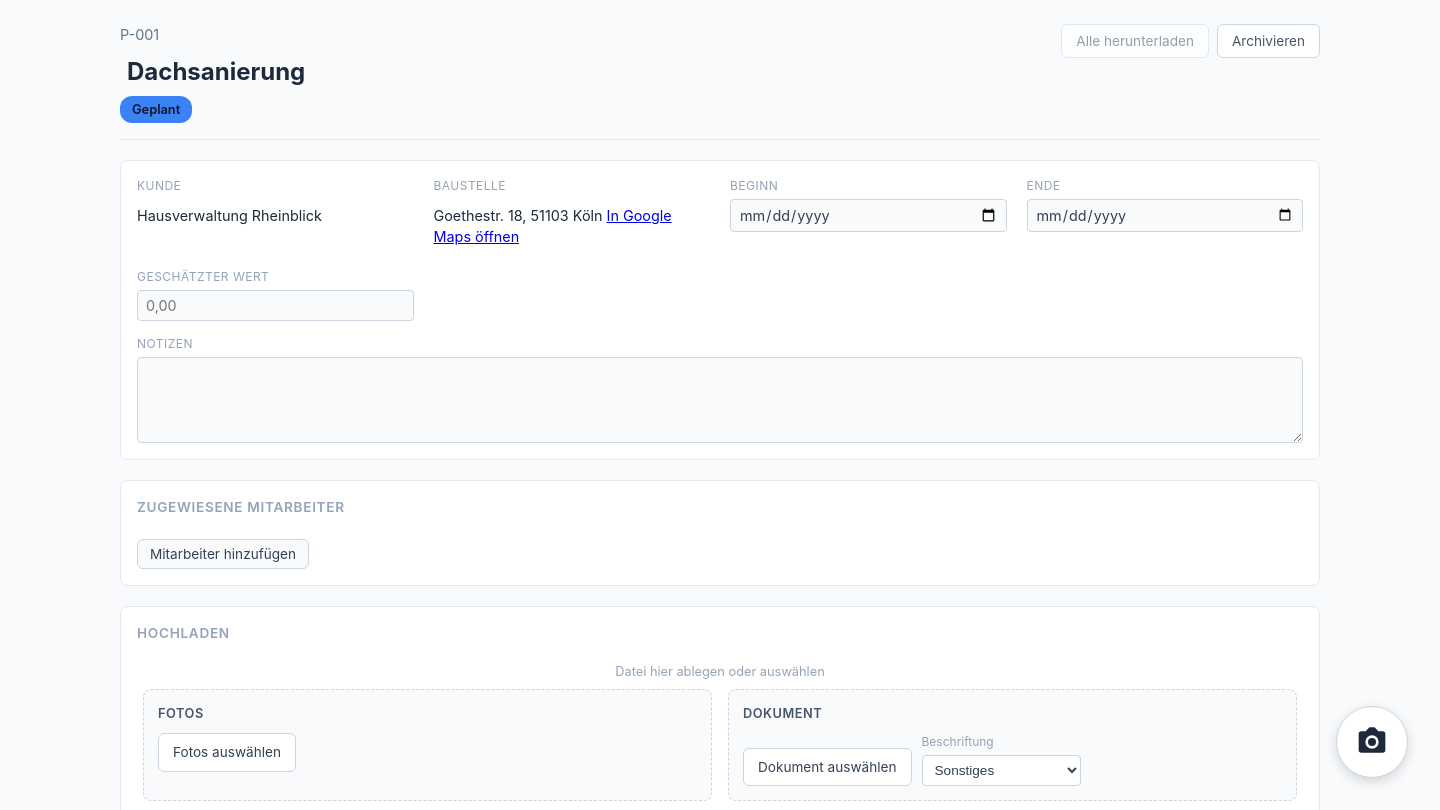
Scenario: ProjectDetailPage — Baustelle group (AC-280, edit branch) › initial toggle state on Edit is OFF + populated when project.siteAddress is non-null
The image size is (1440, 810).
Click the button with test id "project-detail-site-address-edit" at (553,212), box [434,178,672,245]
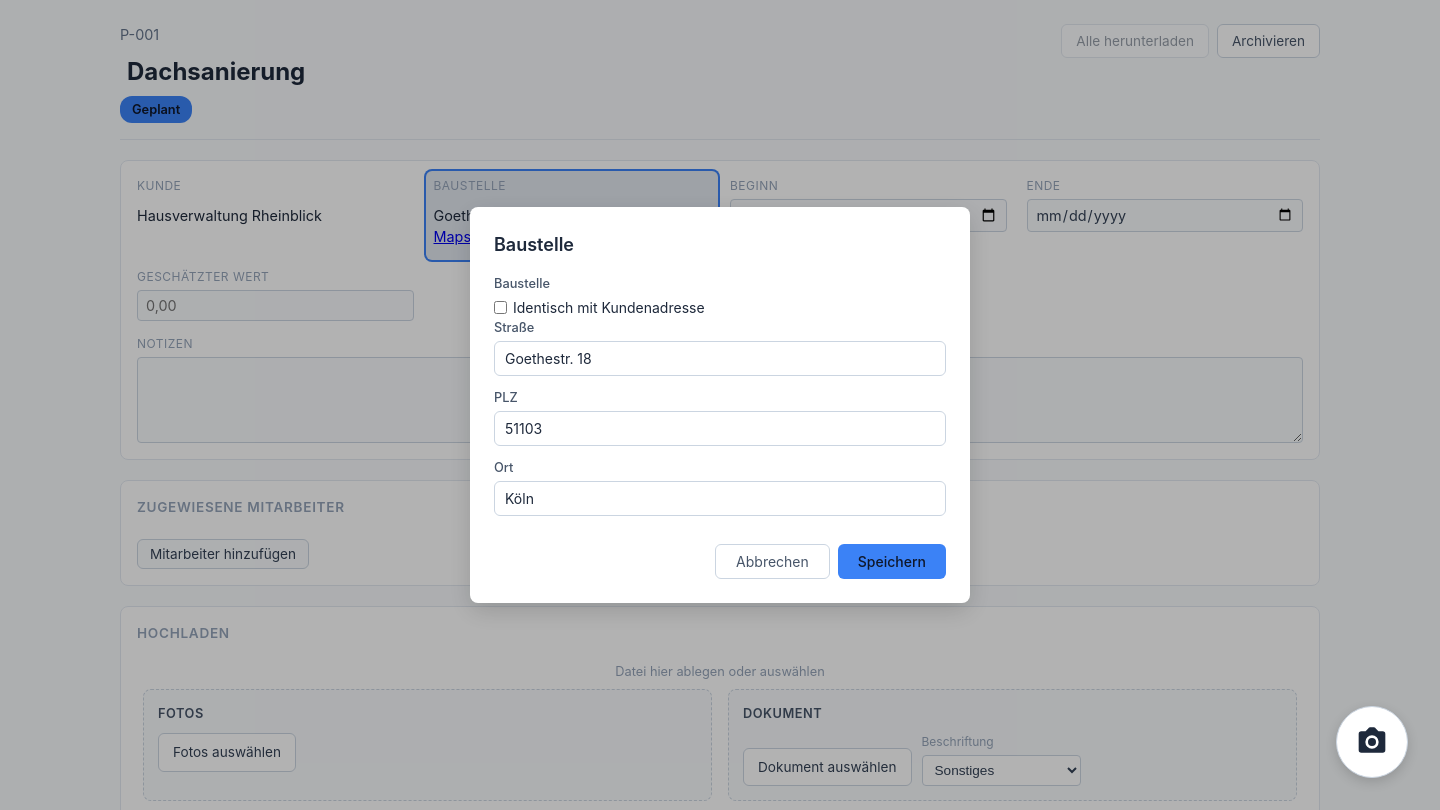
Now the checkbox labelled "Identisch mit Kundenadresse" is not checked, box [494,301,507,314]
Now the field with test id "project-site-street-input" holds "Goethestr. 18", box [494,341,946,376]
Now the field with test id "project-site-zip-input" holds "51103", box [494,411,946,446]
